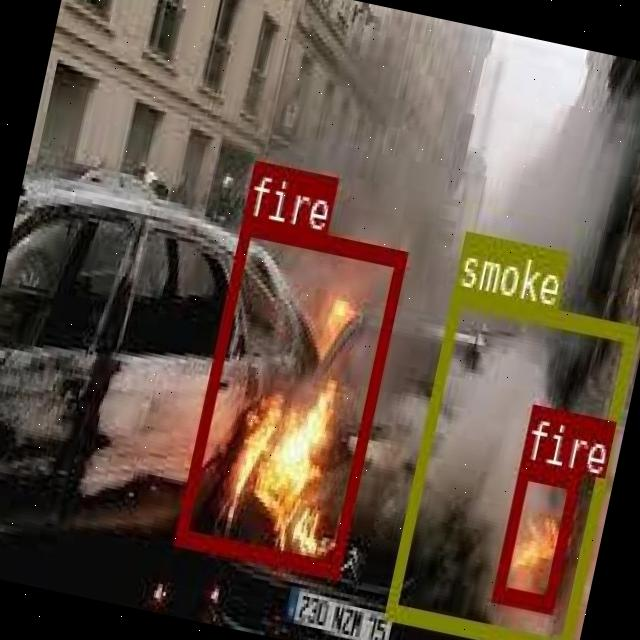fire: (174, 214, 407, 576), (490, 458, 579, 610)
smoke: (383, 284, 636, 640)
